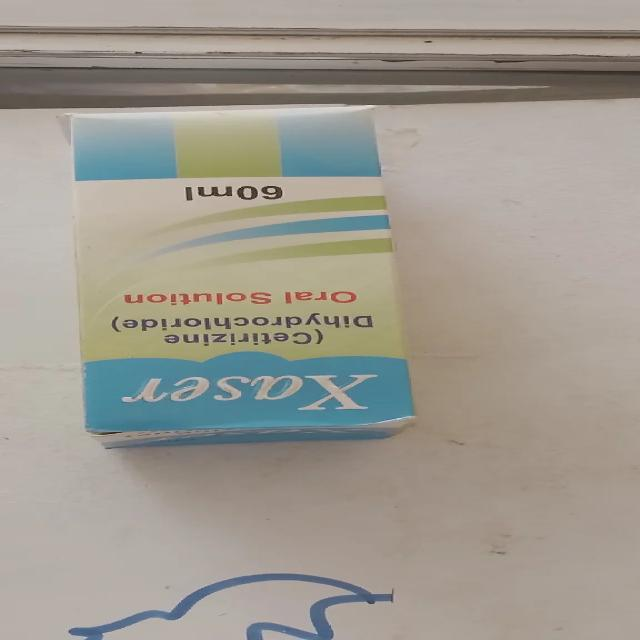drug-name: (116, 372, 370, 408)
